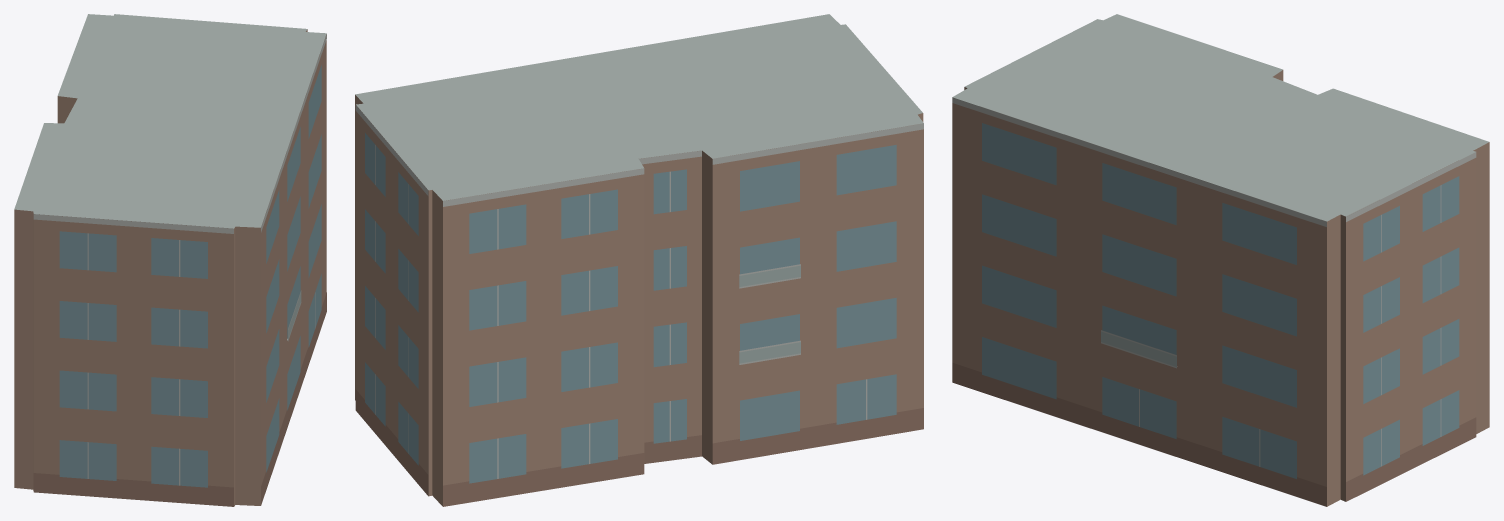
File: survey-upis-32961132.glb
3 views of the same model, side by side, from view 1: azimuth 30°, elevation 25°; view 2: azimuth 150°, elevation 25°; view 3: azimuth 270°, elevation 25° (orthographic). The views are drawn at different scales.
Visible parts, largest first — view 1: survey-upis-32961132.tmp; view 2: survey-upis-32961132.tmp; view 3: survey-upis-32961132.tmp.
Boxes of the visible parts, bbox=[...] form: survey-upis-32961132.tmp: bbox=[14, 14, 326, 506]; survey-upis-32961132.tmp: bbox=[355, 14, 923, 506]; survey-upis-32961132.tmp: bbox=[952, 14, 1489, 506].
Bounding box in the file's own units: 19.19 × 12.29 × 20.99.
